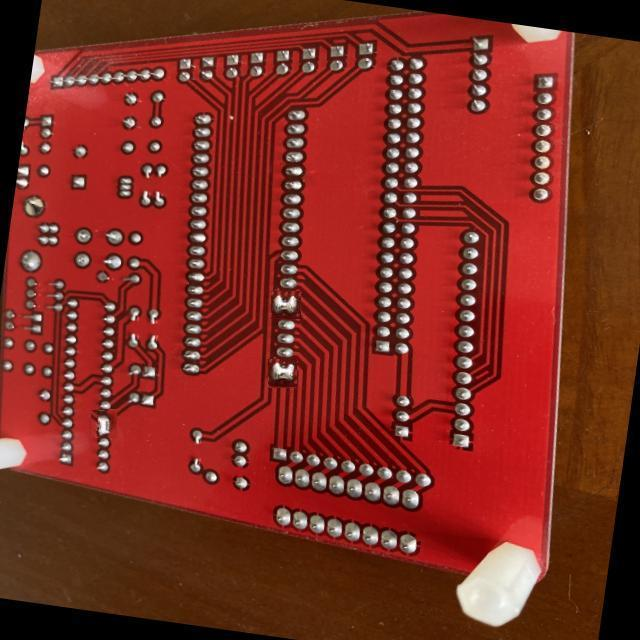damged: (272, 290, 301, 320), (268, 359, 297, 388), (90, 409, 117, 438)
